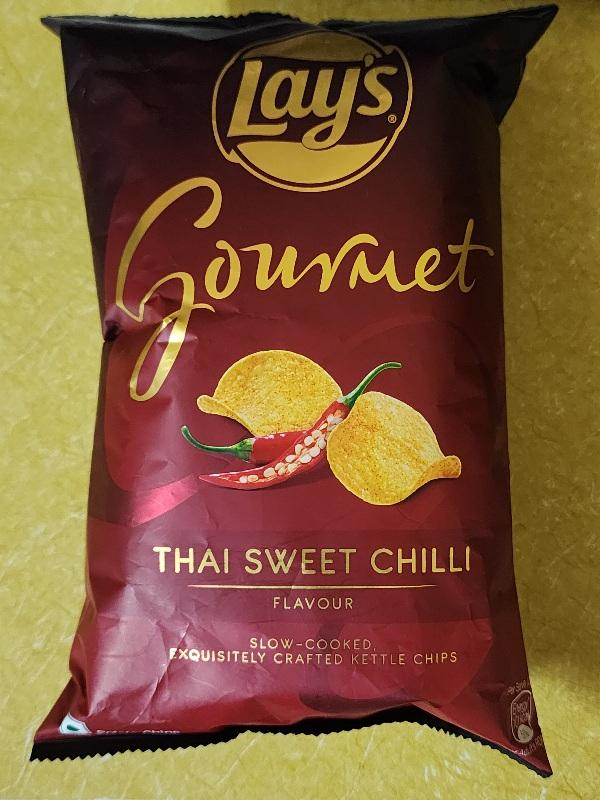Lays: (30, 7, 558, 771)
